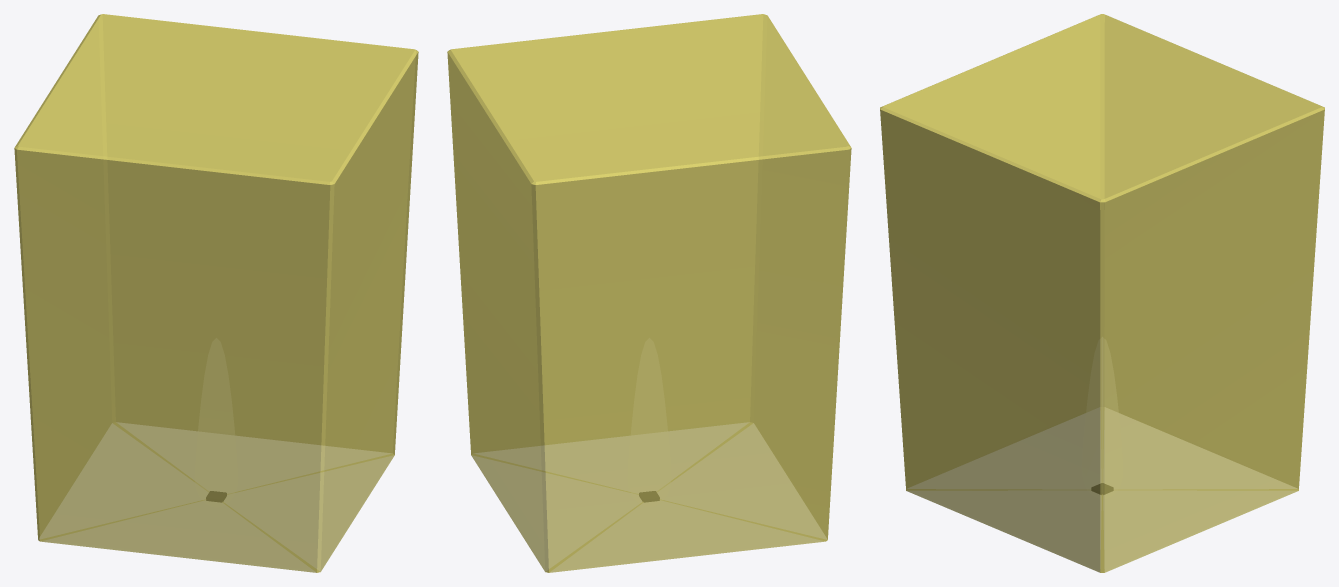
File: yellow_lantern_sky_lantern.glb
The picture shows the model from 3 angles, left to right: view 1: azimuth 30°, elevation 25°; view 2: azimuth 150°, elevation 25°; view 3: azimuth 270°, elevation 25°; orthographic projection. The views are drawn at different scales.
Visible parts, largest first — view 1: Yellow Lantern_0; view 2: Yellow Lantern_0; view 3: Yellow Lantern_0.
Boxes of the visible parts, x1=… form: Yellow Lantern_0: x1=14, y1=14, x2=418, y2=572; Yellow Lantern_0: x1=447, y1=14, x2=851, y2=572; Yellow Lantern_0: x1=880, y1=14, x2=1324, y2=572.
Bounding box in the file's own units: 3.17 × 3.07 × 3.17.
